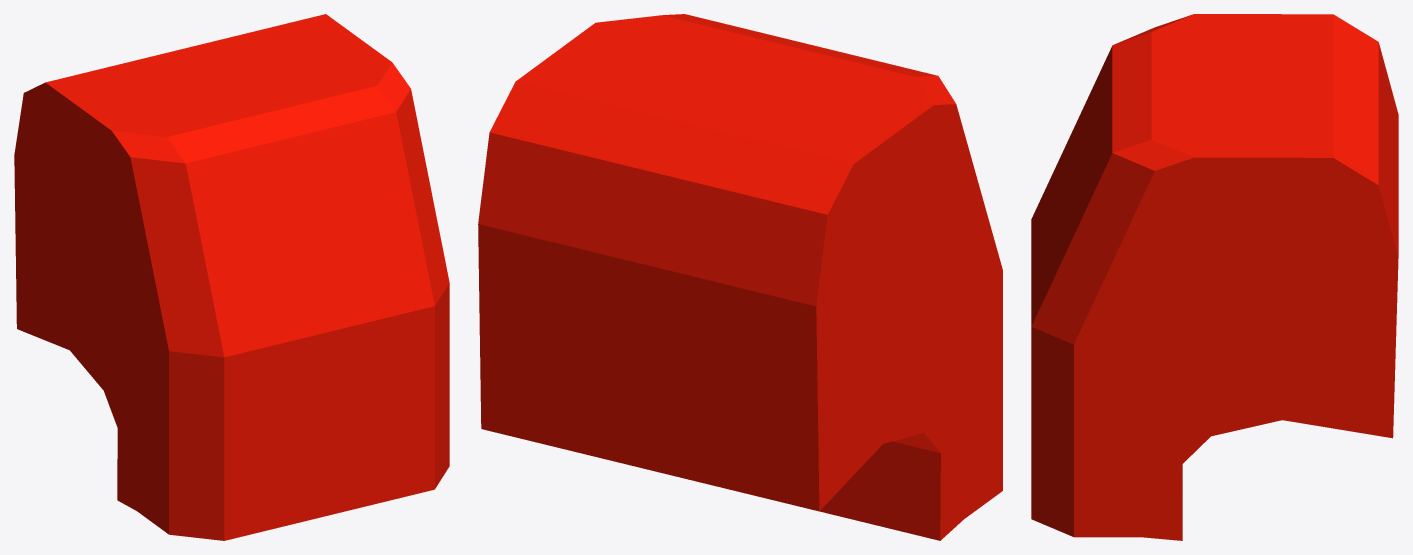
The model's file is head.dae.
The picture shows the model from 3 angles, left to right: view 1: azimuth 30°, elevation 25°; view 2: azimuth 150°, elevation 25°; view 3: azimuth 270°, elevation 25°; orthographic projection. The views are drawn at different scales.
Parts seen in each view (by area): view 1: head; view 2: head; view 3: head.
Part boxes in pixels (x1,y1,x2,y2): head: (14,14,449,540); head: (478,14,1002,540); head: (1031,14,1398,540).
Bounding box in the file's own units: 1.6 × 1.73 × 1.99.
